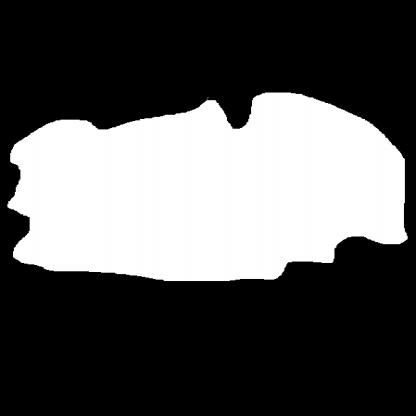malignant: (7, 89, 416, 303)
